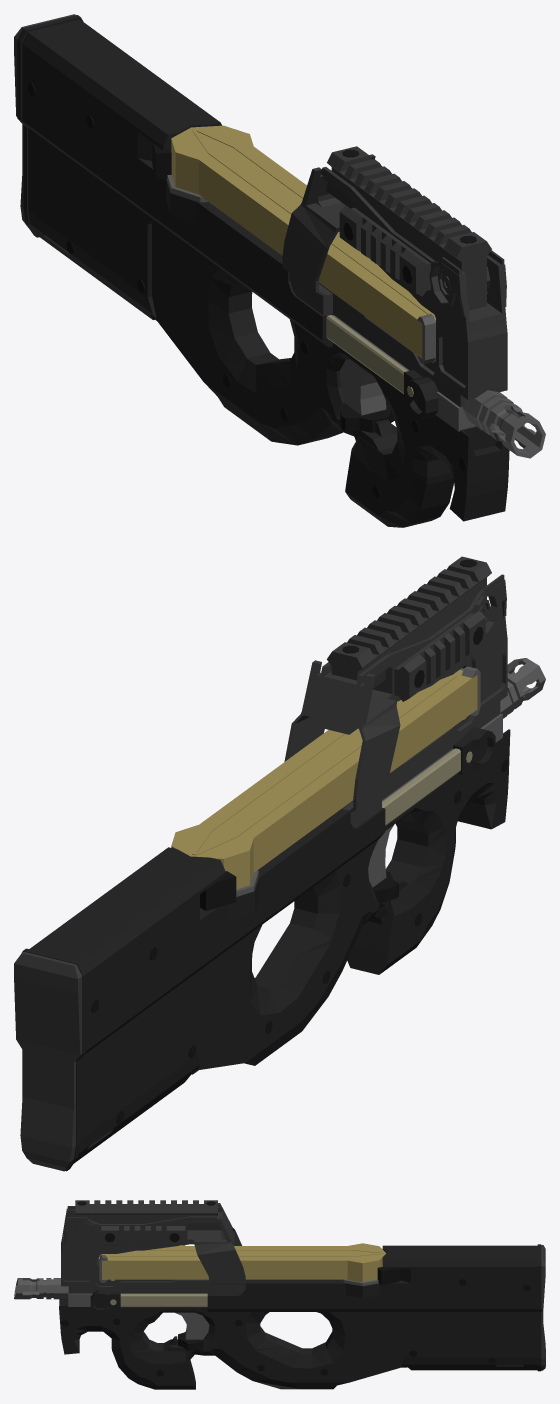
3 renders of one model, top to bottom at view 1: azimuth 30°, elevation 25°; view 2: azimuth 150°, elevation 25°; view 3: azimuth 270°, elevation 25°, orthographic. The views are drawn at different scales.
Parts seen in each view (by area): view 1: Object_8, Object_10, Object_7, Object_9, Object_3, Object_11, Object_6, Object_4; view 2: Object_8, Object_10, Object_7, Object_4, Object_11, Object_6, Object_9, Object_3; view 3: Object_8, Object_10, Object_7, Object_11, Object_6, Object_9, Object_3, Object_4, Object_5.
Part boxes in pixels (x1,y1,x2,y2): Object_8: (17, 15, 509, 527); Object_10: (282, 146, 507, 407); Object_7: (171, 125, 435, 357); Object_9: (167, 175, 475, 431); Object_3: (463, 390, 545, 458); Object_11: (27, 82, 476, 497); Object_6: (326, 315, 413, 396); Object_4: (14, 14, 75, 227); Object_8: (22, 727, 510, 1171); Object_10: (284, 556, 507, 828); Object_7: (171, 670, 477, 889); Object_4: (14, 952, 82, 1171); Object_11: (91, 559, 508, 1123); Object_6: (382, 748, 472, 825); Object_9: (236, 666, 502, 896); Object_3: (500, 658, 545, 718); Object_8: (59, 1244, 541, 1389); Object_10: (61, 1200, 245, 1295); Object_7: (102, 1243, 386, 1282); Object_11: (61, 1201, 530, 1376); Object_6: (110, 1293, 207, 1307); Object_9: (68, 1254, 378, 1339); Object_3: (14, 1278, 68, 1299); Object_4: (541, 1245, 545, 1370); Object_5: (187, 1223, 221, 1230).
Bounding box in the file's own units: 0.06 × 0.2257 × 0.5959.
